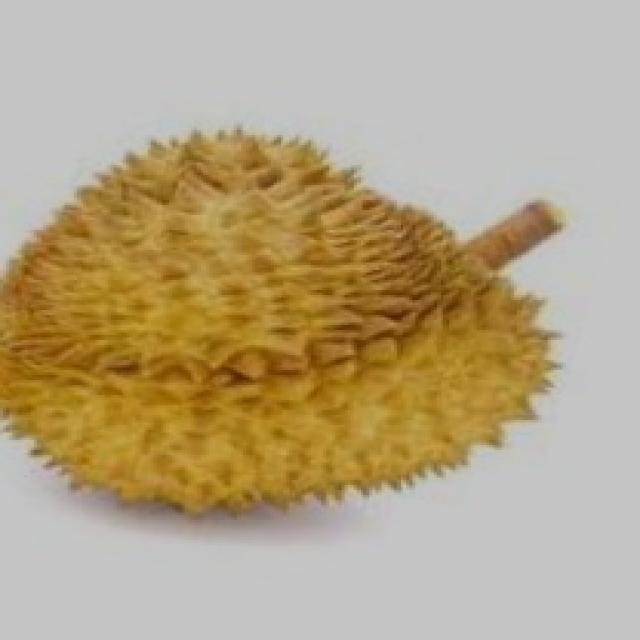fruit: (225, 148, 612, 570), (0, 189, 378, 592)
